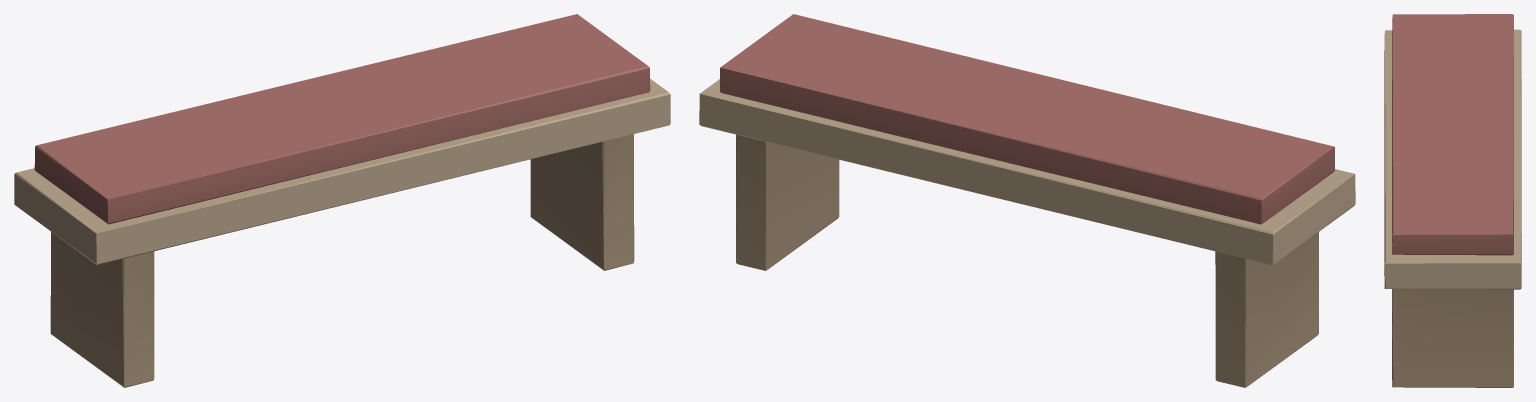
Rendered from museum_bench_low.glb.
3 renders of one model, left to right at view 1: azimuth 30°, elevation 25°; view 2: azimuth 150°, elevation 25°; view 3: azimuth 270°, elevation 25°, orthographic. The views are drawn at different scales.
Size of the model in its own units: 1.8 by 0.58 by 0.4468.
